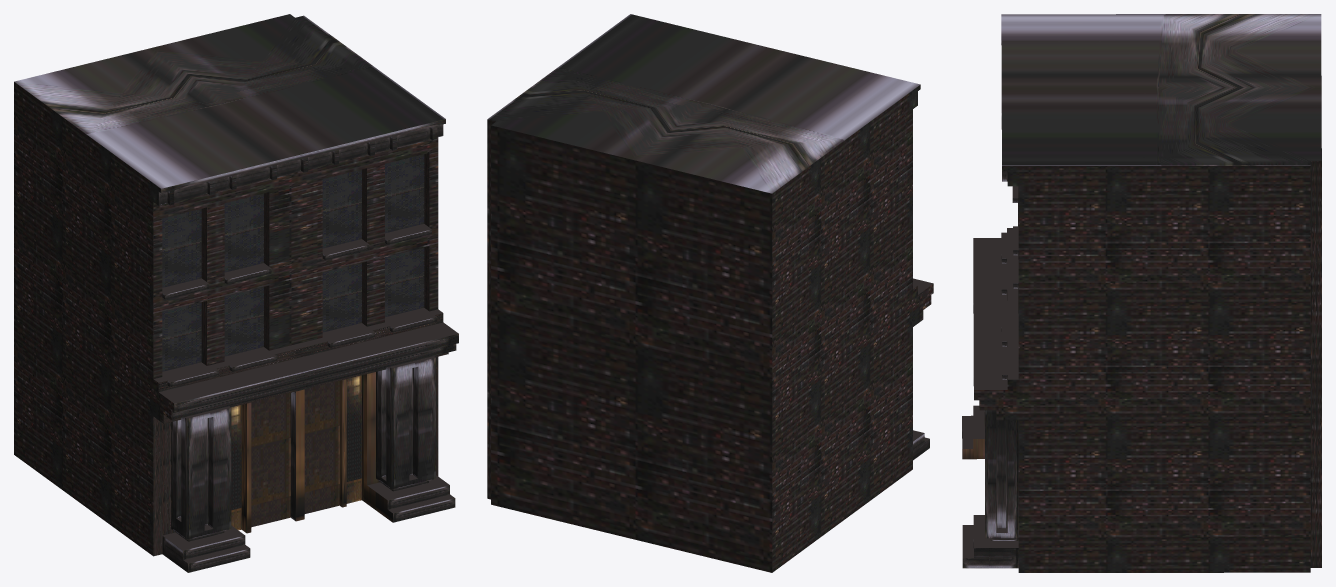
The model's file is building1.gltf.
3 views of the same model, side by side, from view 1: azimuth 30°, elevation 25°; view 2: azimuth 150°, elevation 25°; view 3: azimuth 270°, elevation 25° (orthographic). The views are drawn at different scales.
Parts seen in each view (by area): view 1: Object_7, Object_11, Object_12, Object_10, Object_5, Object_9, Object_13; view 2: Object_7, Object_11; view 3: Object_7, Object_11, Object_10.
Boxes of the visible parts, left/top/right/bottom form: Object_7: left=14, top=82, right=448, bottom=556; Object_11: left=14, top=14, right=458, bottom=572; Object_12: left=162, top=154, right=424, bottom=371; Object_10: left=153, top=224, right=458, bottom=563; Object_5: left=251, top=381, right=339, bottom=527; Object_9: left=241, top=372, right=392, bottom=533; Object_13: left=231, top=375, right=361, bottom=530; Object_7: left=487, top=85, right=933, bottom=572; Object_11: left=487, top=14, right=929, bottom=460; Object_7: left=974, top=161, right=1321, bottom=572; Object_11: left=962, top=14, right=1321, bottom=568; Object_10: left=962, top=186, right=1018, bottom=558.
Bounding box in the file's own units: 5.34 × 6.67 × 5.34.
